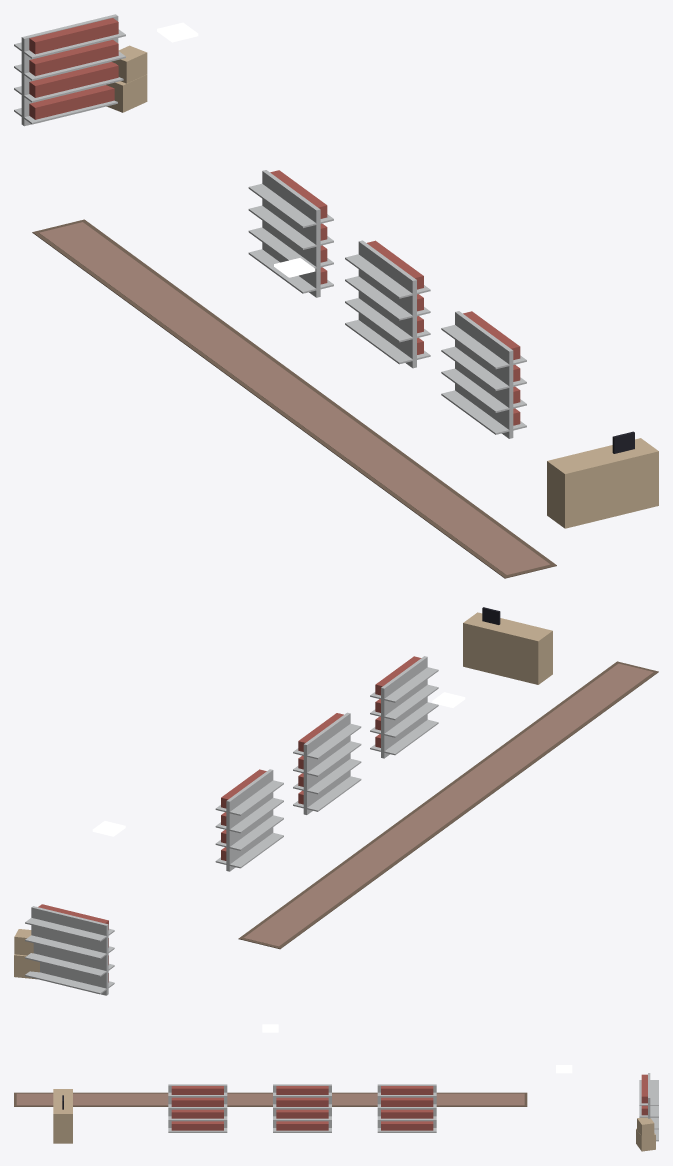
Rendered from fine-s0.glb.
The picture shows the model from 3 angles, top to bottom: view 1: azimuth 30°, elevation 25°; view 2: azimuth 150°, elevation 25°; view 3: azimuth 270°, elevation 25°; orthographic projection. The views are drawn at different scales.
Parts seen in each view (by area): view 1: soft-s0, shelving.000, shop-counter.000, shelf.002, shelf.001, shelf.000, cardboard-box.000; view 2: soft-s0, shelving.000, shop-counter.000, shelf.002, shelf.000, shelf.001, cardboard-box.000; view 3: soft-s0, shelf.000, shelf.002, shelf.001, shop-counter.000, shelving.000, cardboard-box.000.
Part boxes in pixels (box(x1,y1,x2,y2)): soft-s0: box(32, 219, 556, 578); shelving.000: box(14, 14, 125, 126); shop-counter.000: box(547, 431, 658, 528); shelf.002: box(441, 311, 526, 438); shelf.001: box(345, 240, 430, 368); shelf.000: box(248, 170, 333, 297); cardboard-box.000: box(106, 45, 147, 112); soft-s0: box(238, 661, 658, 949); shelving.000: box(25, 904, 114, 995); shop-counter.000: box(463, 607, 552, 684); shelf.002: box(370, 656, 438, 758); shelf.000: box(215, 769, 283, 871); shelf.001: box(293, 712, 361, 814); cardboard-box.000: box(14, 929, 39, 979); soft-s0: box(14, 1092, 527, 1106); shelf.000: box(377, 1084, 436, 1132); shelf.002: box(168, 1084, 227, 1132); shelf.001: box(273, 1084, 331, 1132); shop-counter.000: box(53, 1089, 72, 1143); shelving.000: box(639, 1073, 658, 1141); cardboard-box.000: box(636, 1117, 655, 1151).
Size of the model in its own units: 4.23 by 2.44 by 19.72.
